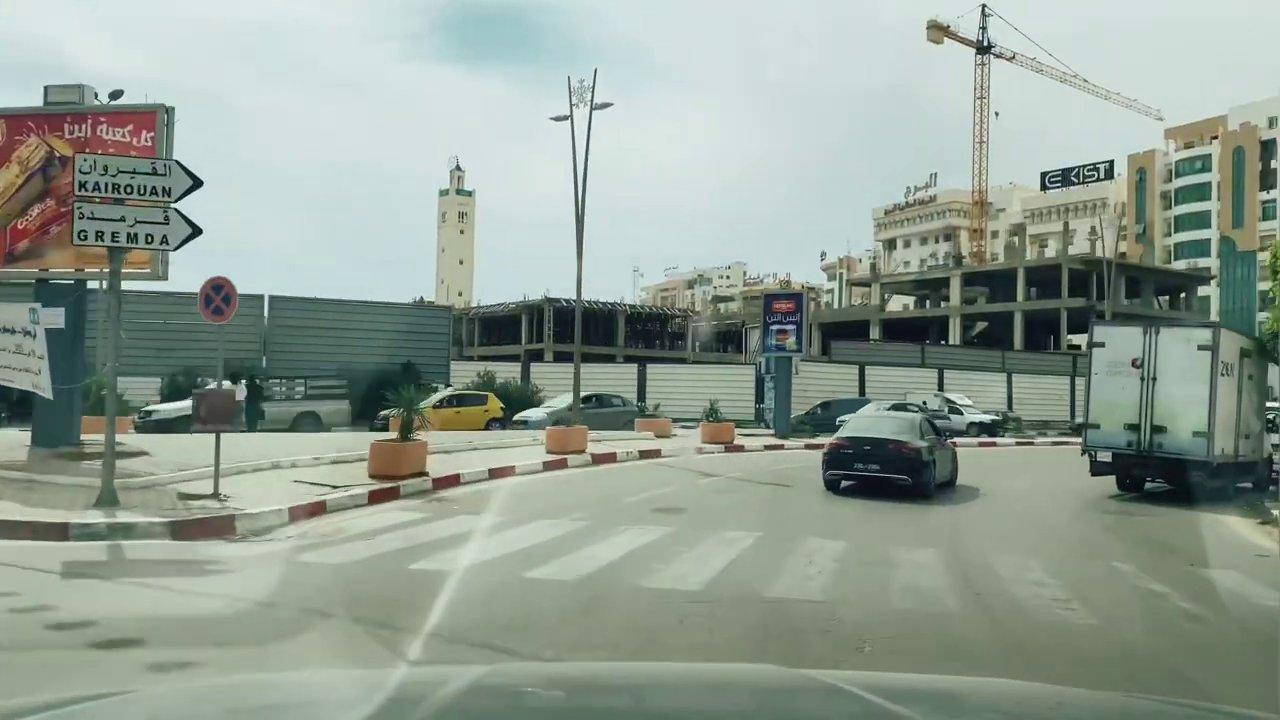no stopping: (197, 274, 240, 326)
